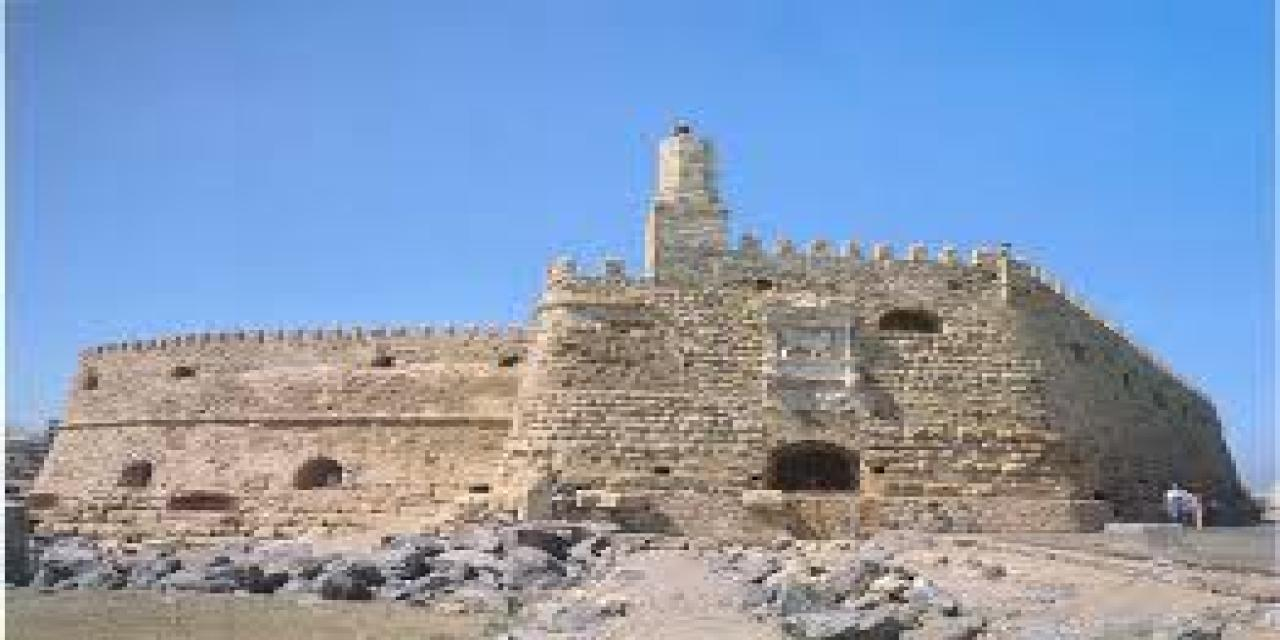Kules: (23, 124, 1264, 544)
